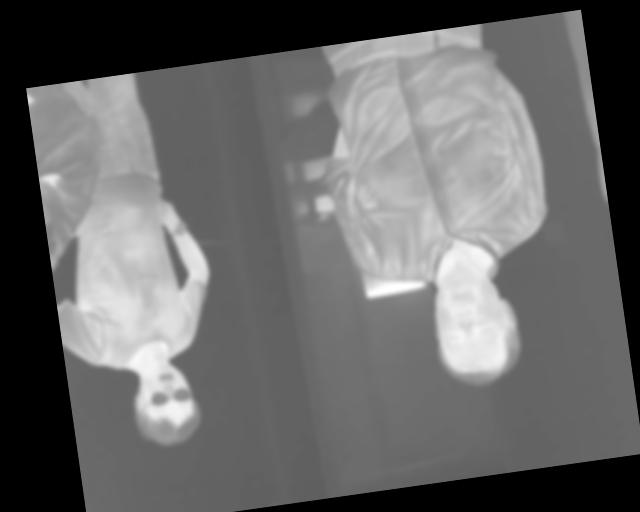face: (425, 262, 526, 393), (126, 353, 205, 450)
